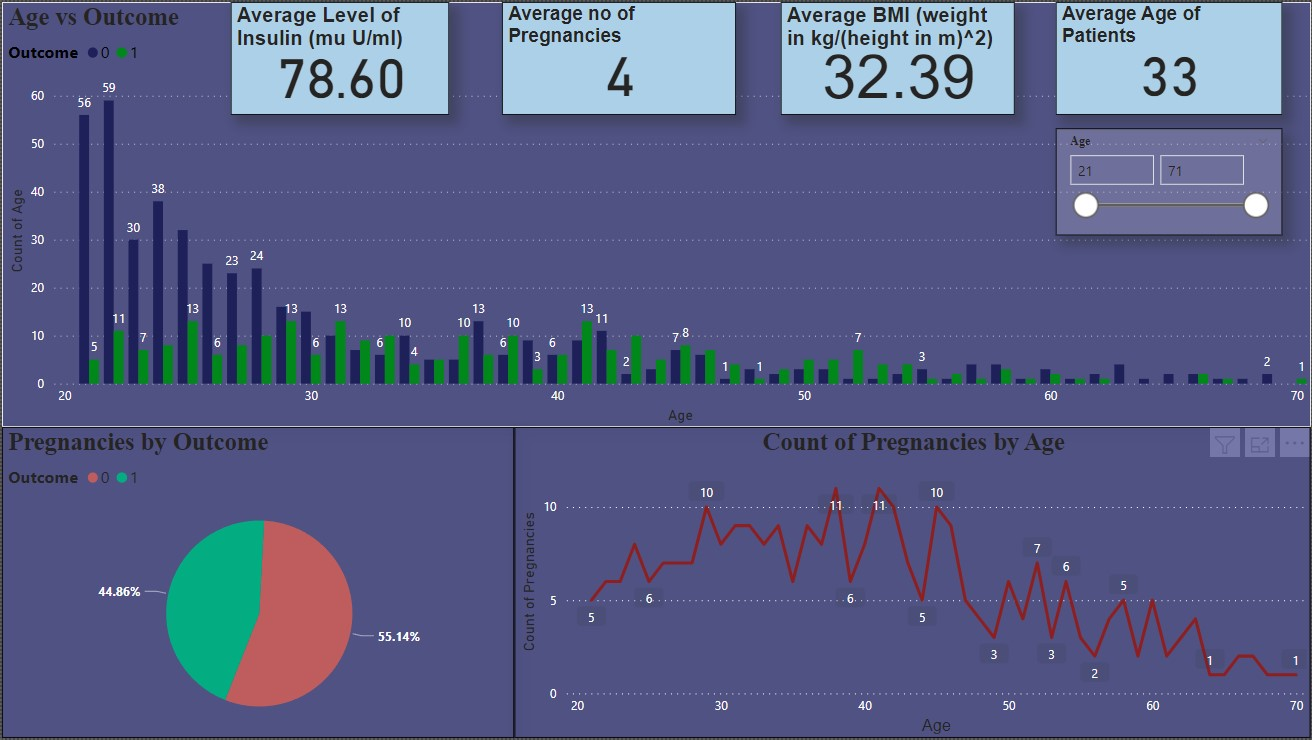

This screenshot's page, from the dashboard's own definition file:
{"tool":"powerbi","page":{"name":"Page 1","canvas":[1280,720],"ordinal":0},"visuals":[{"type":"clusteredColumnChart","title":"Age vs Outcome","fields":{"Category":["df_pima.Age"],"Series":["df_pima.Outcome"],"Y":["CountNonNull(df_pima.Age)"]},"box":[0,0,1279.9,415.6],"z":0},{"type":"card","title":"Average Age of Patients","fields":{"Values":["Avg(df_pima.Age)"]},"box":[1030.5,0,221.3,110],"z":1000},{"type":"card","title":"Average no of Pregnancies","fields":{"Values":["Avg(df_pima.Pregnancies)"]},"box":[489,0,228.6,110],"z":2000},{"type":"card","title":"Average Level of Insulin (mu U/ml)","fields":{"Values":["Avg(df_pima.Insulin)"]},"box":[223.7,0,221.3,110],"z":3000},{"type":"card","title":"Average BMI (weight in kg/(height in m)^2)","fields":{"Values":["Avg(df_pima.BMI)"]},"box":[761.6,0,228.6,110],"z":4000},{"type":"donutChart","fields":{"Category":["df_pima.Outcome"],"Y":["Sum(df_pima.Pregnancies)"]},"box":[0,415.6,501.2,304.4],"z":5000},{"type":"lineChart","fields":{"Category":["df_pima.Age"],"Y":["Count(df_pima.Pregnancies)"]},"box":[501.2,415.6,778.7,304.4],"z":6000},{"type":"slicer","fields":{"Values":["df_pima.Age"]},"box":[1030.5,123.5,221.3,105.1],"z":7000}]}

Visuals, with their boxes in screenshot pixels (x1, y1, x2, y2), scaled from the page's 1280x720 canvas onto the 1312x740 screenshot:
"Age vs Outcome" clusteredColumnChart: BBox(0, 0, 1311, 427)
"Average Age of Patients" card: BBox(1056, 0, 1283, 113)
"Average no of Pregnancies" card: BBox(501, 0, 736, 113)
"Average Level of Insulin (mu U/ml)" card: BBox(229, 0, 456, 113)
"Average BMI (weight in kg/(height in m)^2)" card: BBox(781, 0, 1015, 113)
donutChart - df_pima.Outcome x Sum(df_pima.Pregnancies): BBox(0, 427, 514, 739)
lineChart - df_pima.Age x Count(df_pima.Pregnancies): BBox(514, 427, 1311, 739)
slicer - df_pima.Age: BBox(1056, 127, 1283, 235)
